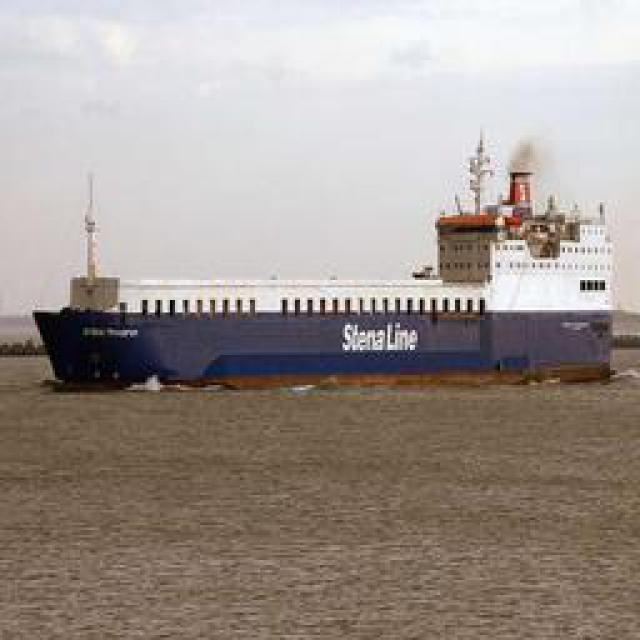Ship: (41, 149, 631, 392)
